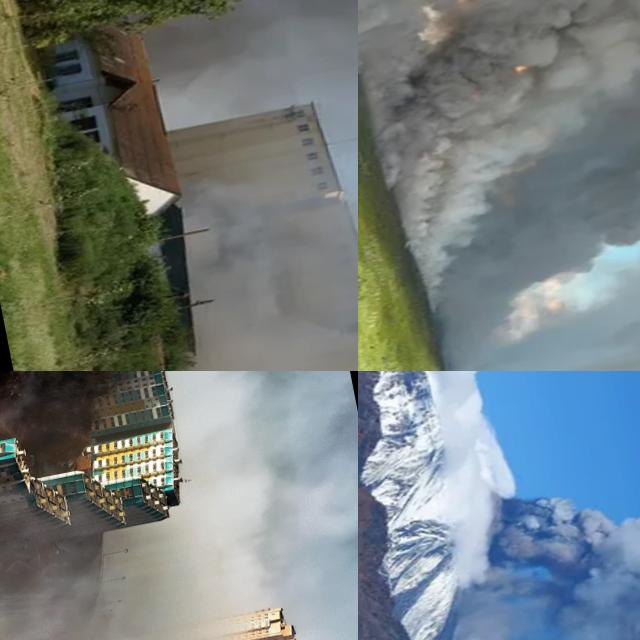smoke: (358, 0, 640, 371), (144, 152, 358, 371), (406, 450, 640, 640), (117, 0, 358, 133)
